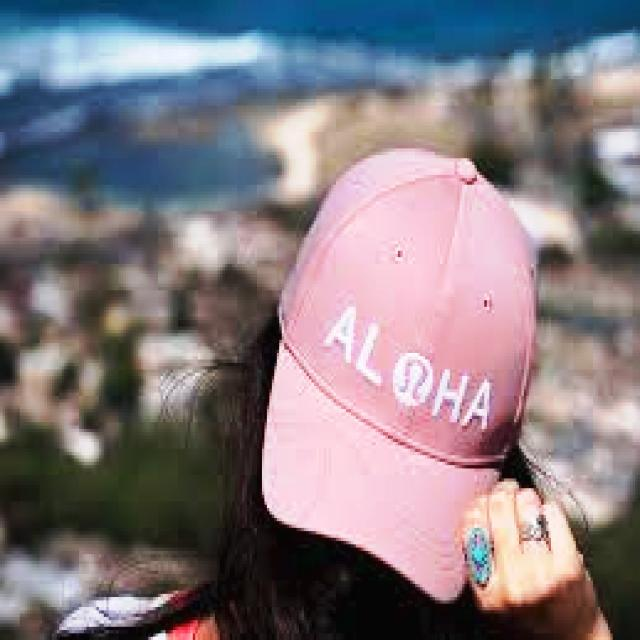TOPI: (245, 122, 606, 605)
